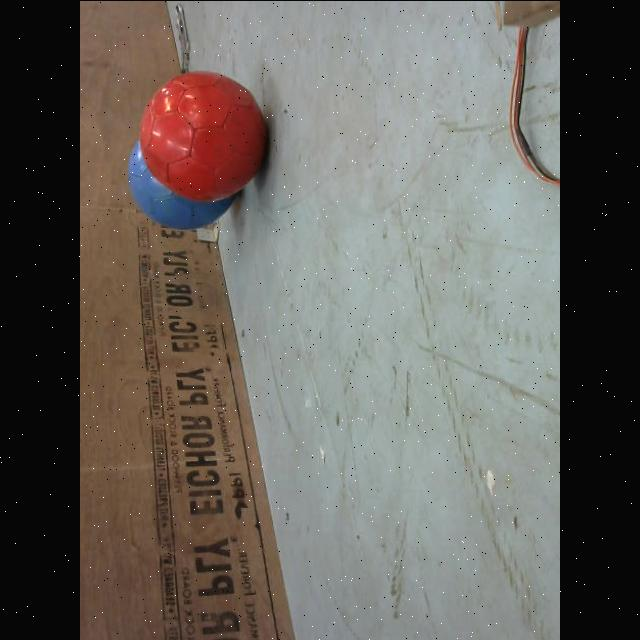B: (129, 126, 241, 232)
R: (138, 71, 268, 203)
